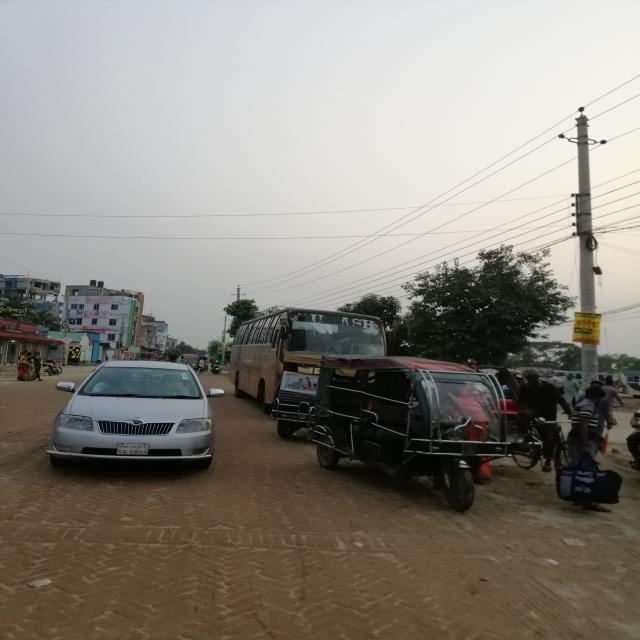Car: (47, 347, 229, 475)
